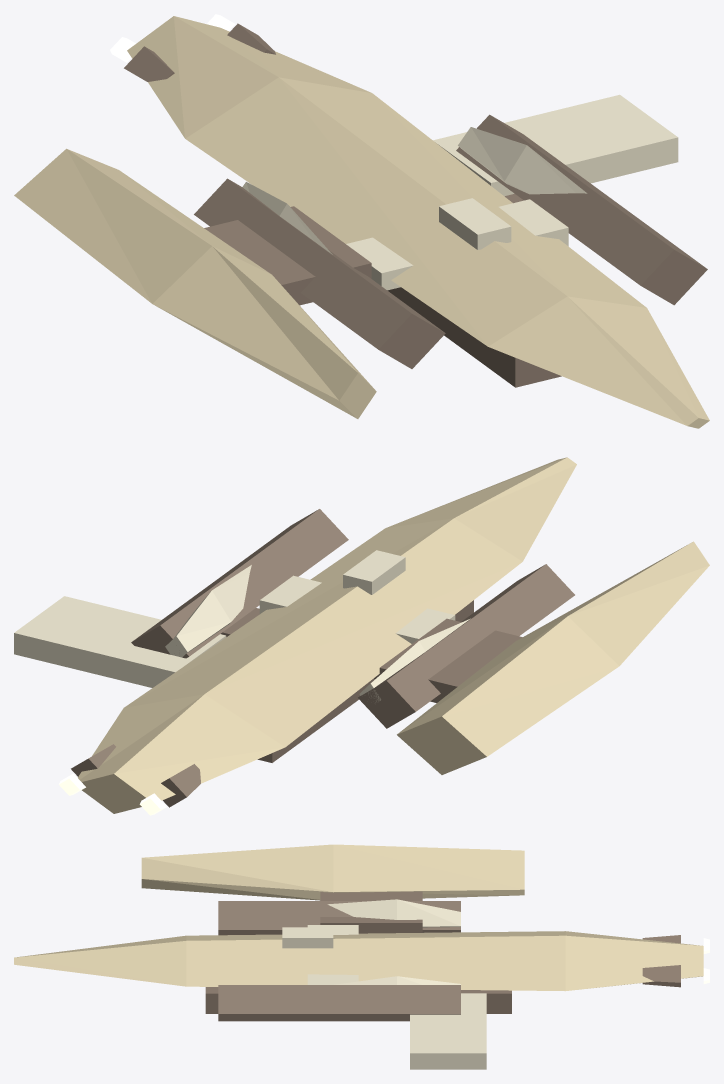
3 renders of one model, top to bottom at view 1: azimuth 30°, elevation 25°; view 2: azimuth 150°, elevation 25°; view 3: azimuth 270°, elevation 25°, orthographic. The views are drawn at different scales.
Size of the model in its own units: 7.43 by 1.47 by 11.66.
